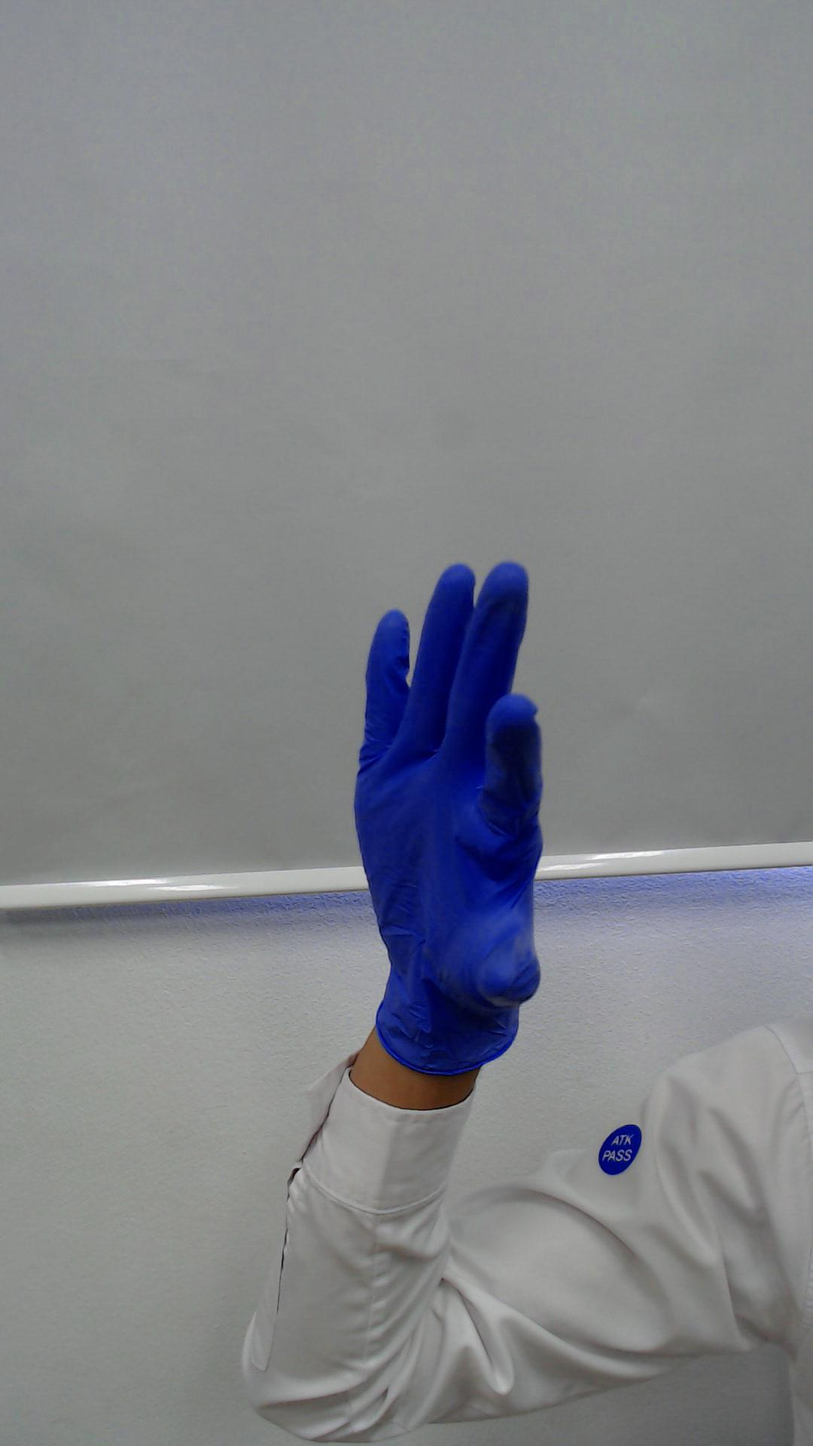gloves: (342, 545, 607, 983)
